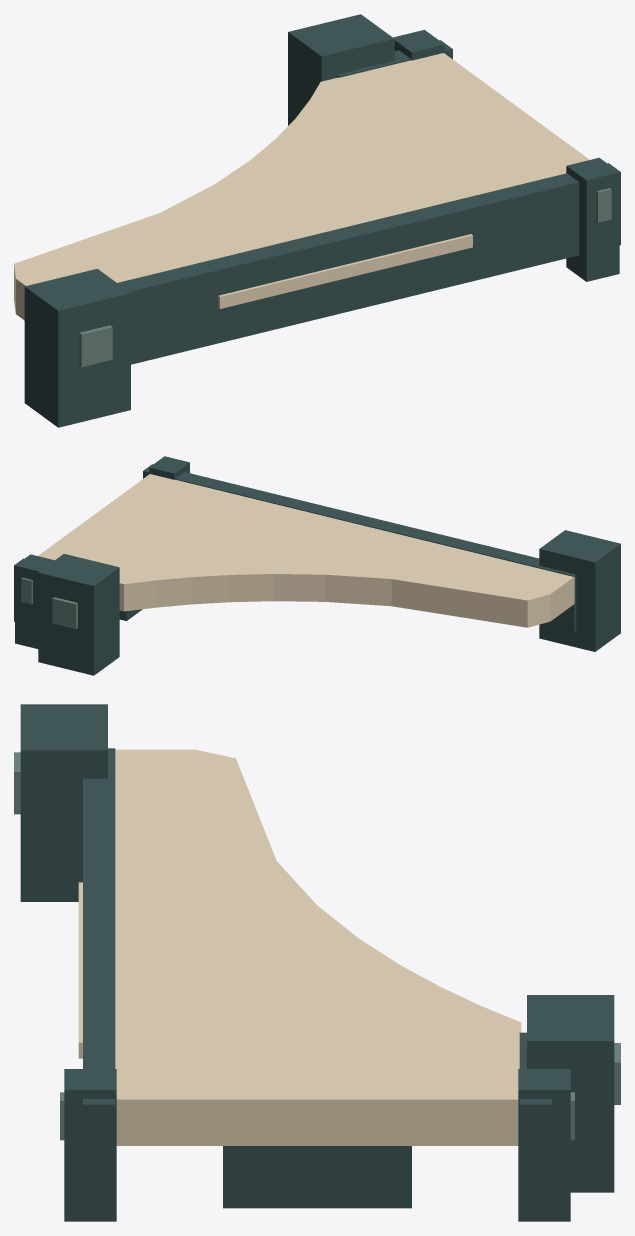
Rendered from Pier_Angled_65.glb.
3 renders of one model, top to bottom at view 1: azimuth 30°, elevation 25°; view 2: azimuth 150°, elevation 25°; view 3: azimuth 270°, elevation 25°, orthographic. The views are drawn at different scales.
Visible parts, largest first — view 1: Pier_Angled_65; view 2: Pier_Angled_65; view 3: Pier_Angled_65.
Boxes of the visible parts, x1,y1,x2,y2 form: Pier_Angled_65: (14,14,620,427); Pier_Angled_65: (14,456,620,675); Pier_Angled_65: (14,704,620,1221).
Size of the model in its own units: 6.05 by 1.15 by 4.17.
